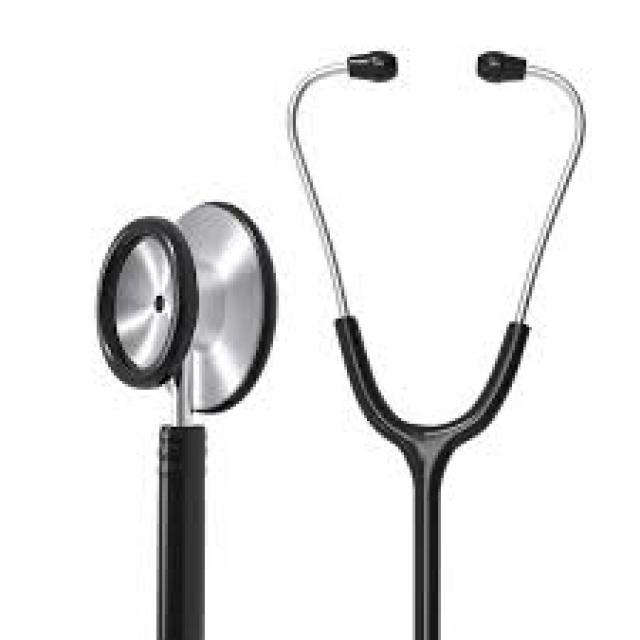stethoscope: (79, 34, 573, 566)
